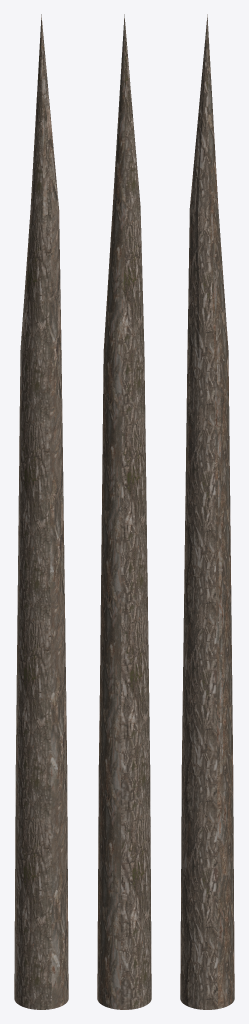
The model's file is tree.glb.
3 views of the same model, side by side, from view 1: azimuth 90°, elevation 25°; view 2: azimuth 150°, elevation 25°; view 3: azimuth 270°, elevation 25° (orthographic).
Visible parts, largest first — view 1: Cylinder; view 2: Cylinder; view 3: Cylinder.
Part boxes in pixels (x1,y1,x2,y2): Cylinder: [14, 14, 68, 1009]; Cylinder: [97, 14, 151, 1009]; Cylinder: [180, 14, 234, 1009].
Bounding box in the file's own units: 1 × 20 × 1.
1 material, 1 textured.
